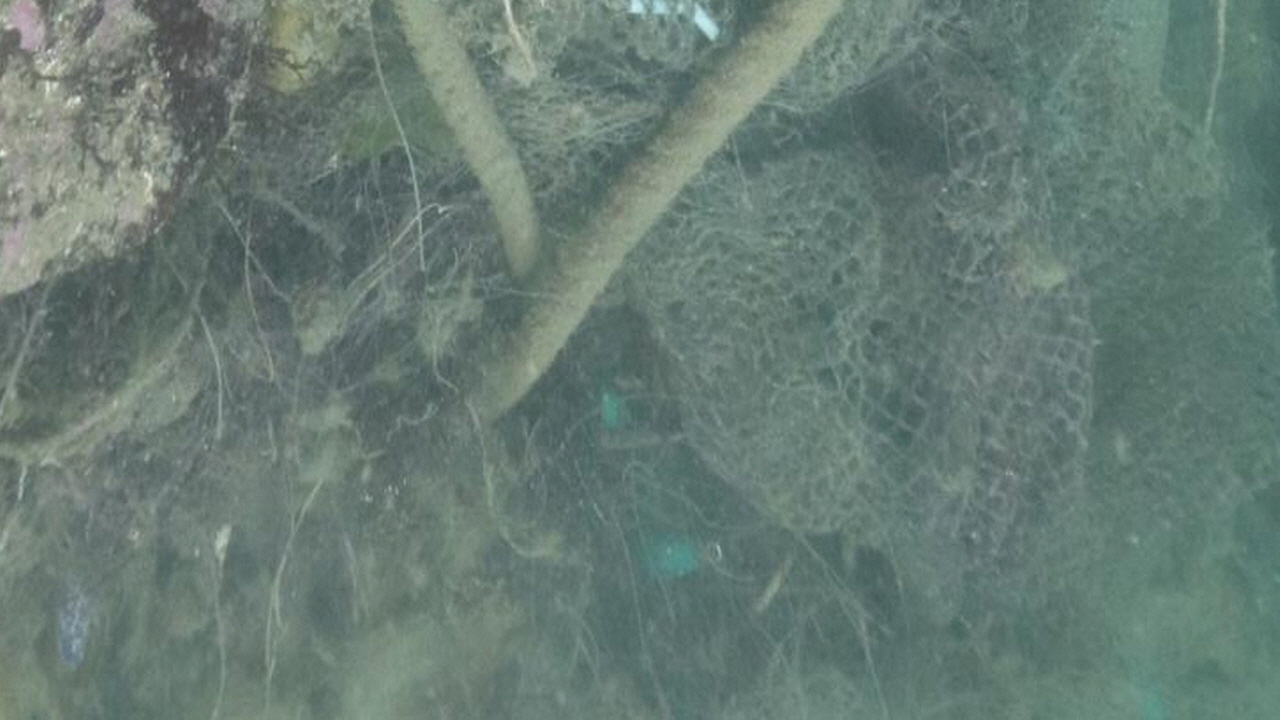fish net: (299, 0, 1280, 609)
rope: (461, 0, 842, 426), (393, 0, 542, 283)
